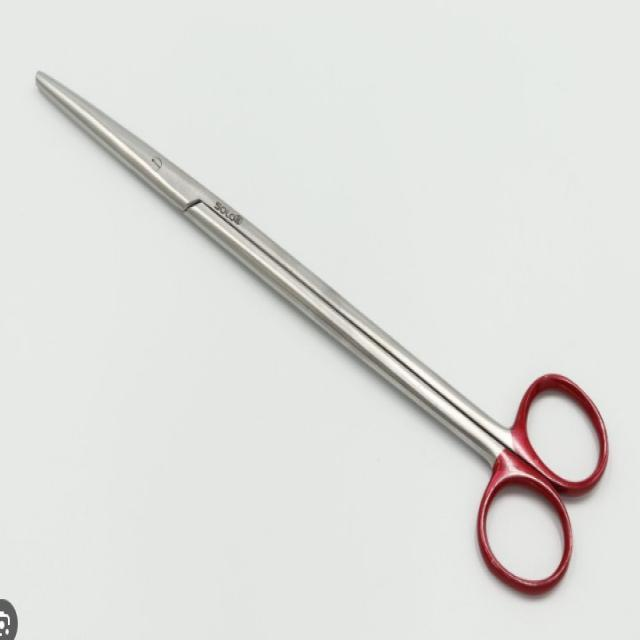Metzenbaum Sciccors: (31, 54, 614, 609)
